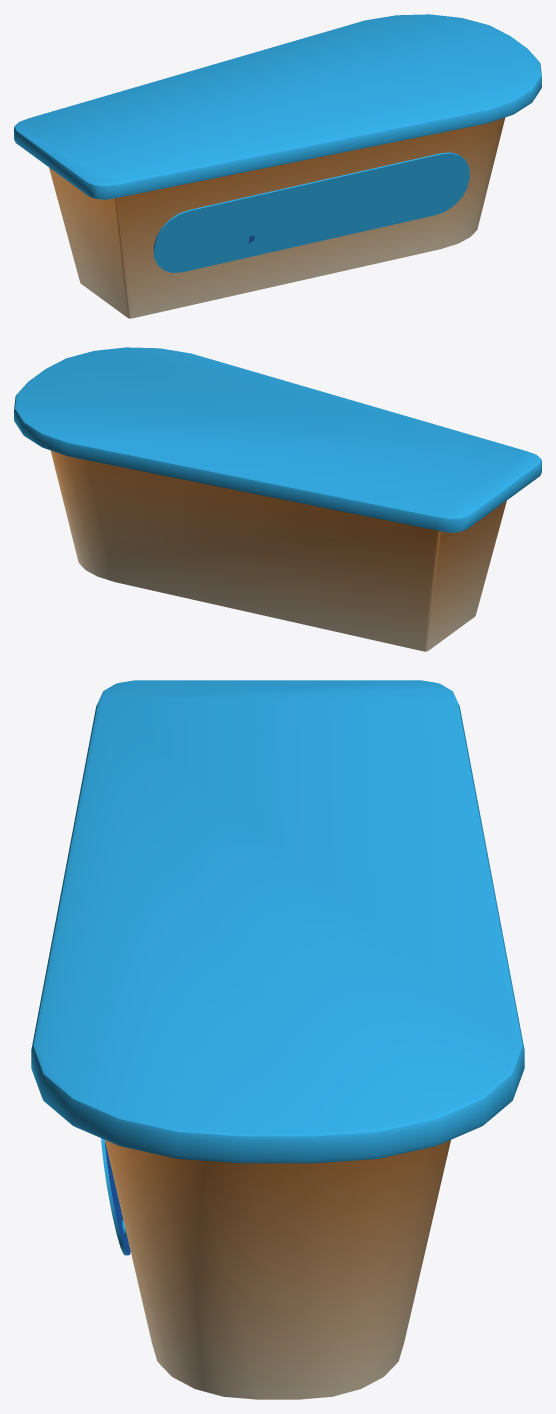
The model's file is workbench.fbx.
3 renders of one model, top to bottom at view 1: azimuth 30°, elevation 25°; view 2: azimuth 150°, elevation 25°; view 3: azimuth 270°, elevation 25°, orthographic. The views are drawn at different scales.
Parts seen in each view (by area): view 1: Workbench; view 2: Workbench; view 3: Workbench.
Boxes of the visible parts, bbox=[...] form: Workbench: bbox=[14, 14, 541, 318]; Workbench: bbox=[14, 347, 541, 651]; Workbench: bbox=[31, 680, 524, 1399].
Size of the model in its own units: 322 by 103 by 146.
Materials: 1 (1 with a texture image).
